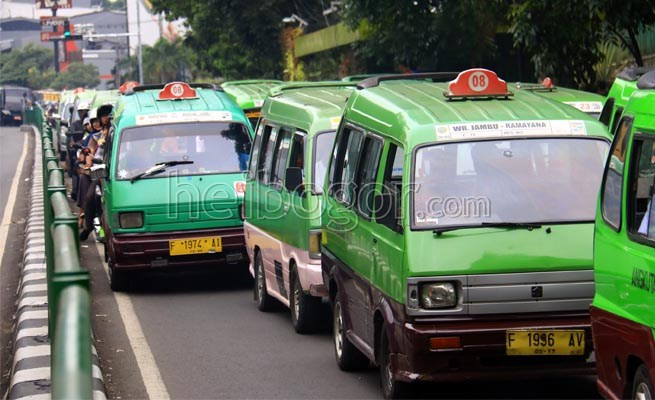plate: (506, 329, 584, 357), (168, 239, 222, 256)
